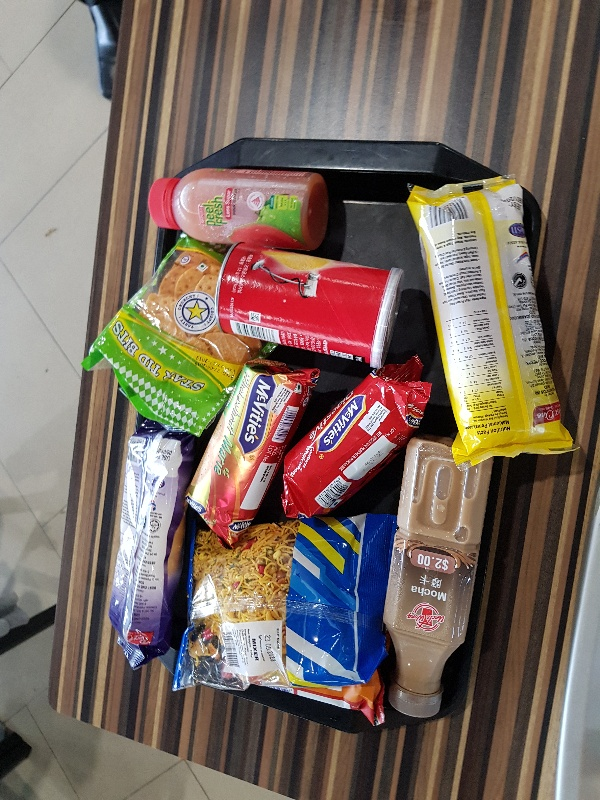Marigold Peel Fresh Pink Guava Juice Drink: (147, 167, 327, 249)
McVitie's Wholewheat Marie: (185, 354, 319, 547)
Mcvitie's Digestive: (280, 354, 431, 517)
Mocha: (382, 437, 494, 721)
Pringles Original: (215, 241, 403, 370)
Star Tidbits 'O' Ring: (85, 234, 276, 435)
Star Tidbits Mixer: (169, 511, 397, 689)
Tinges Roll Chocolate: (109, 413, 193, 672)
Tinges Roll Sweet Corn: (408, 176, 578, 469)
